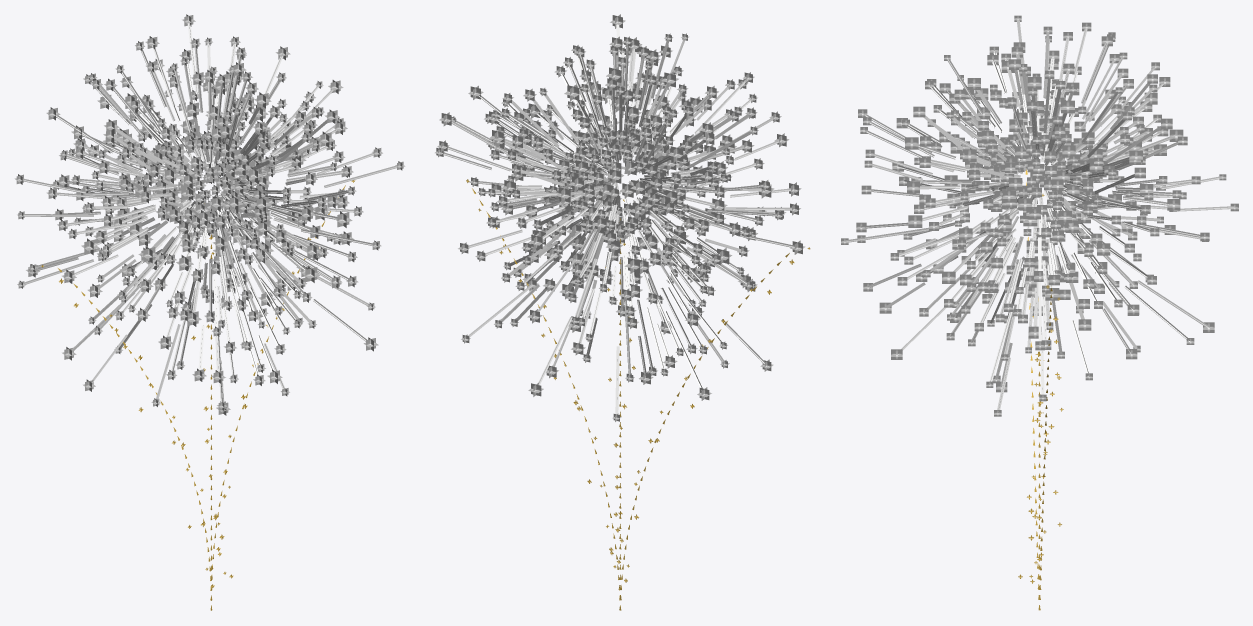
File: ohnostroj.glb
3 views of the same model, side by side, from view 1: azimuth 30°, elevation 25°; view 2: azimuth 150°, elevation 25°; view 3: azimuth 270°, elevation 25° (orthographic).
Parts seen in each view (by area): view 1: snimek_03, snimek_02, snimek_01, snimek_00; view 2: snimek_03, snimek_02, snimek_01, snimek_00; view 3: snimek_03, snimek_02, snimek_01, snimek_00.
Boxes of the visible parts, x1=… form: snimek_03: x1=14, y1=14, x2=405, y2=415; snimek_02: x1=71, y1=50, x2=353, y2=326; snimek_01: x1=134, y1=116, x2=278, y2=251; snimek_00: x1=41, y1=180, x2=355, y2=610; snimek_03: x1=435, y1=14, x2=805, y2=421; snimek_02: x1=489, y1=37, x2=774, y2=332; snimek_01: x1=548, y1=105, x2=697, y2=253; snimek_00: x1=466, y1=179, x2=810, y2=610; snimek_03: x1=841, y1=15, x2=1238, y2=416; snimek_02: x1=905, y1=47, x2=1183, y2=338; snimek_01: x1=967, y1=110, x2=1107, y2=253; snimek_00: x1=1018, y1=169, x2=1063, y2=610.
Bounding box in the file's own units: 19.78 × 32.05 × 19.99.
2 materials, 2 textured.
